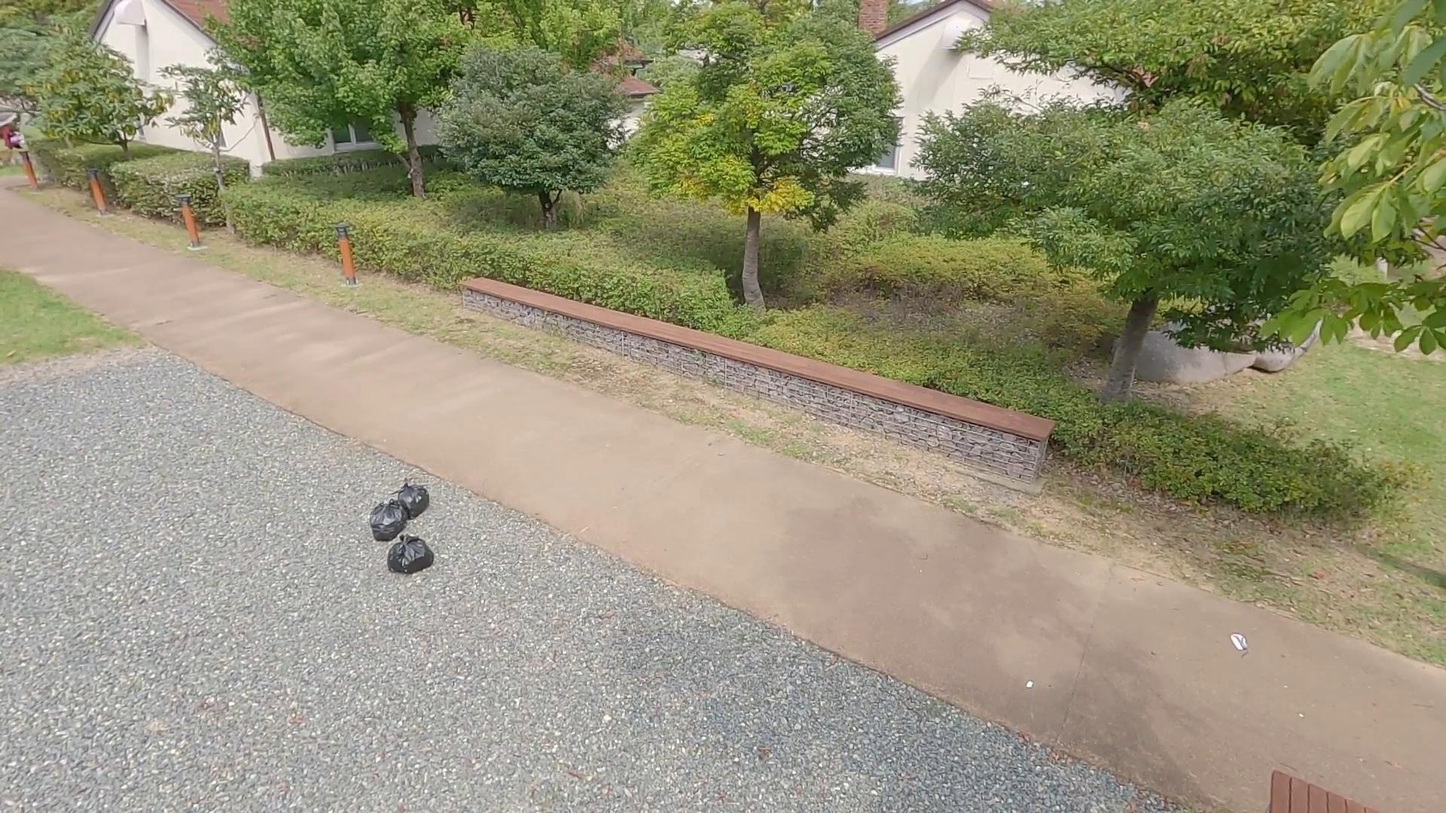trash: (385, 534, 436, 575), (387, 481, 436, 520), (365, 496, 408, 539), (1222, 626, 1253, 658)
